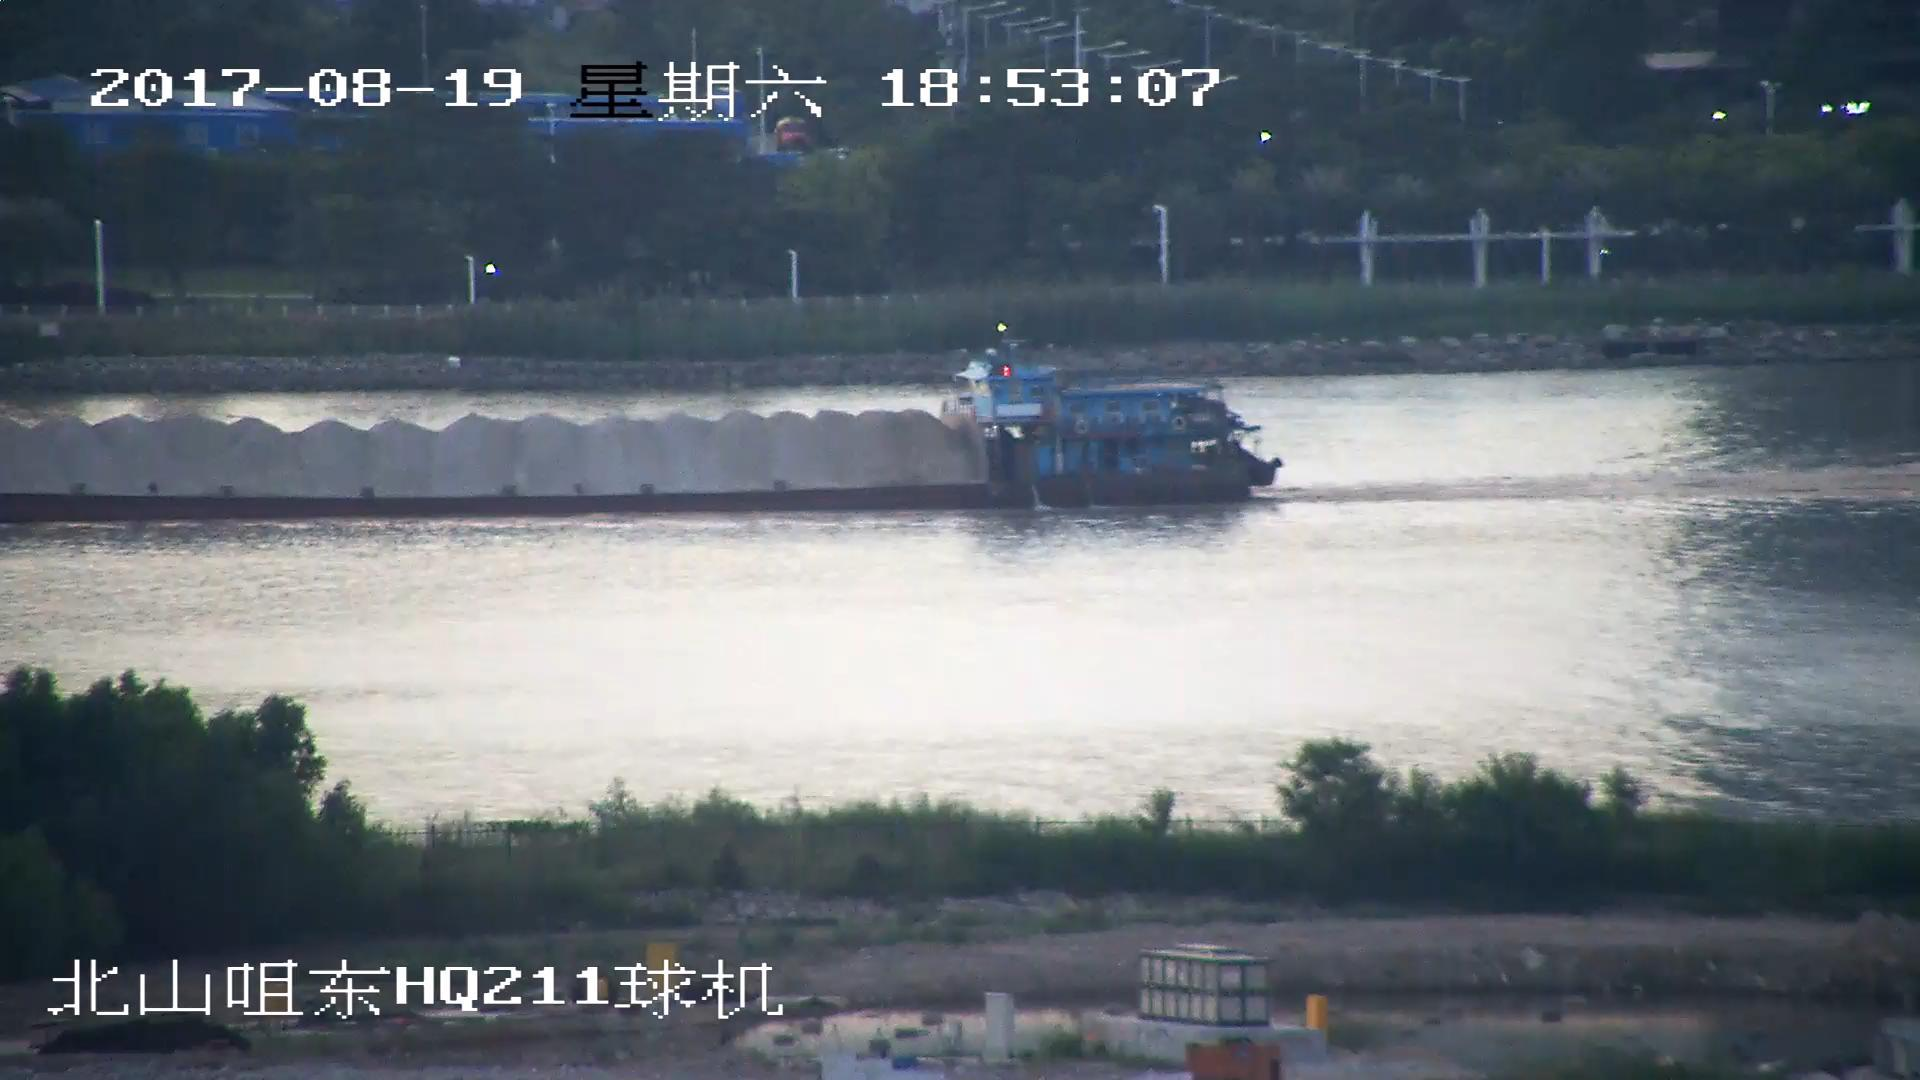Ship: (3, 338, 1283, 525)
